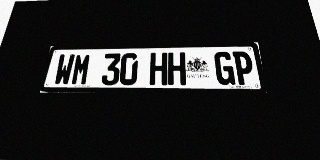0: (119, 53, 138, 85)
3: (101, 53, 121, 85)
G: (214, 52, 235, 85)
H: (168, 52, 186, 85), (149, 53, 167, 85)
M: (70, 54, 92, 85)
P: (232, 51, 255, 85)
W: (53, 54, 75, 85)
